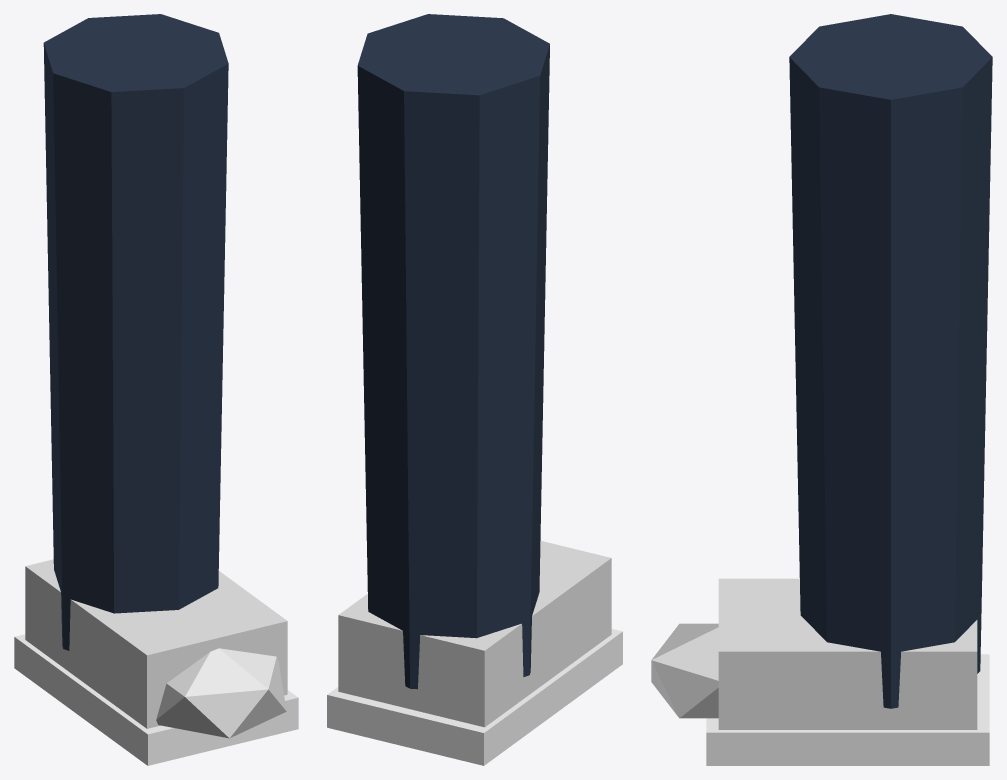
Rendered from insan_e2s_bacak.glb.
3 renders of one model, left to right at view 1: azimuth 30°, elevation 25°; view 2: azimuth 150°, elevation 25°; view 3: azimuth 270°, elevation 25°, orthographic. The views are drawn at different scales.
Visible parts, largest first — view 1: Cone; view 2: Cone; view 3: Cone.
Part boxes in pixels (x1,y1,x2,y2): Cone: (14, 14, 298, 765); Cone: (327, 14, 622, 765); Cone: (651, 14, 992, 765).
Size of the model in its own units: 0.033 by 0.12 by 0.0554.
